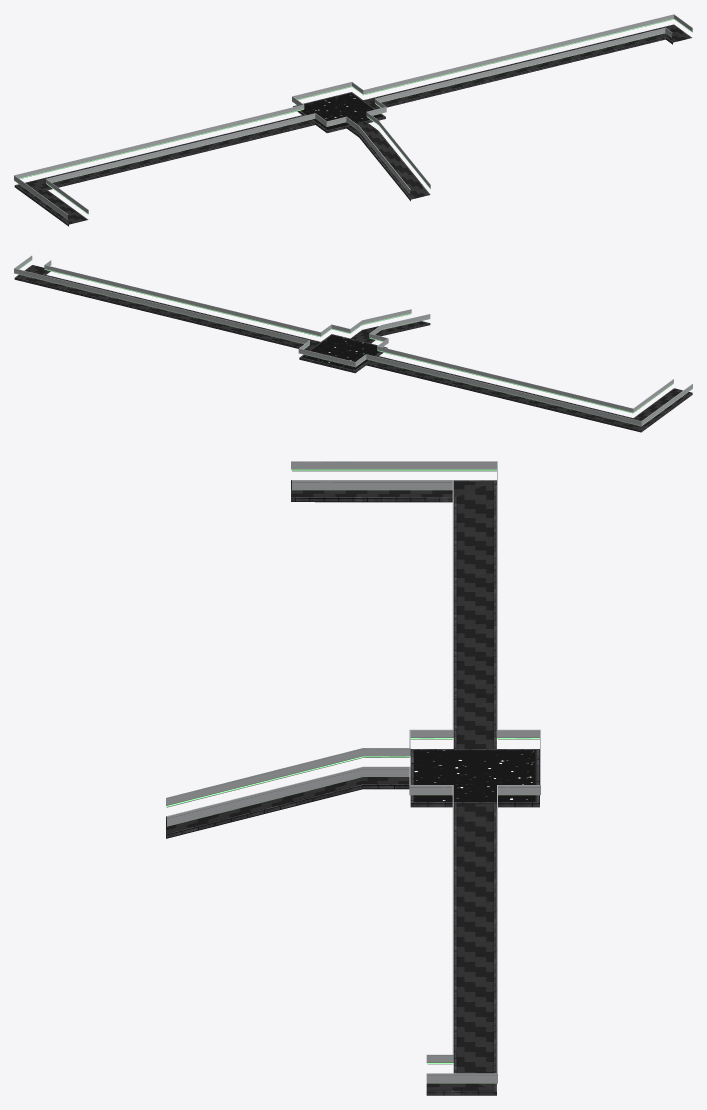
Rendered from entity14220.gltf.
The picture shows the model from 3 angles, top to bottom: view 1: azimuth 30°, elevation 25°; view 2: azimuth 150°, elevation 25°; view 3: azimuth 270°, elevation 25°; orthographic projection. The views are drawn at different scales.
Parts seen in each view (by area): view 1: node_Exhibit_Str_Bridge_1_Art, node_Exhibit_Str_Bridge_Railing_1; view 2: node_Exhibit_Str_Bridge_Railing_1, node_Exhibit_Str_Bridge_1_Art; view 3: node_Exhibit_Str_Bridge_1_Art, node_Exhibit_Str_Bridge_Railing_1.
Part boxes in pixels (<box>): node_Exhibit_Str_Bridge_1_Art: <box>14,24,691,226</box>; node_Exhibit_Str_Bridge_Railing_1: <box>14,14,692,219</box>; node_Exhibit_Str_Bridge_Railing_1: <box>14,255,692,426</box>; node_Exhibit_Str_Bridge_1_Art: <box>14,265,692,432</box>; node_Exhibit_Str_Bridge_1_Art: <box>166,480,539,1095</box>; node_Exhibit_Str_Bridge_Railing_1: <box>166,461,540,1083</box>.
Size of what is drawn, in the model's own units: 67.15 by 3.69 by 17.39.
Materials: 2 (2 with a texture image).
